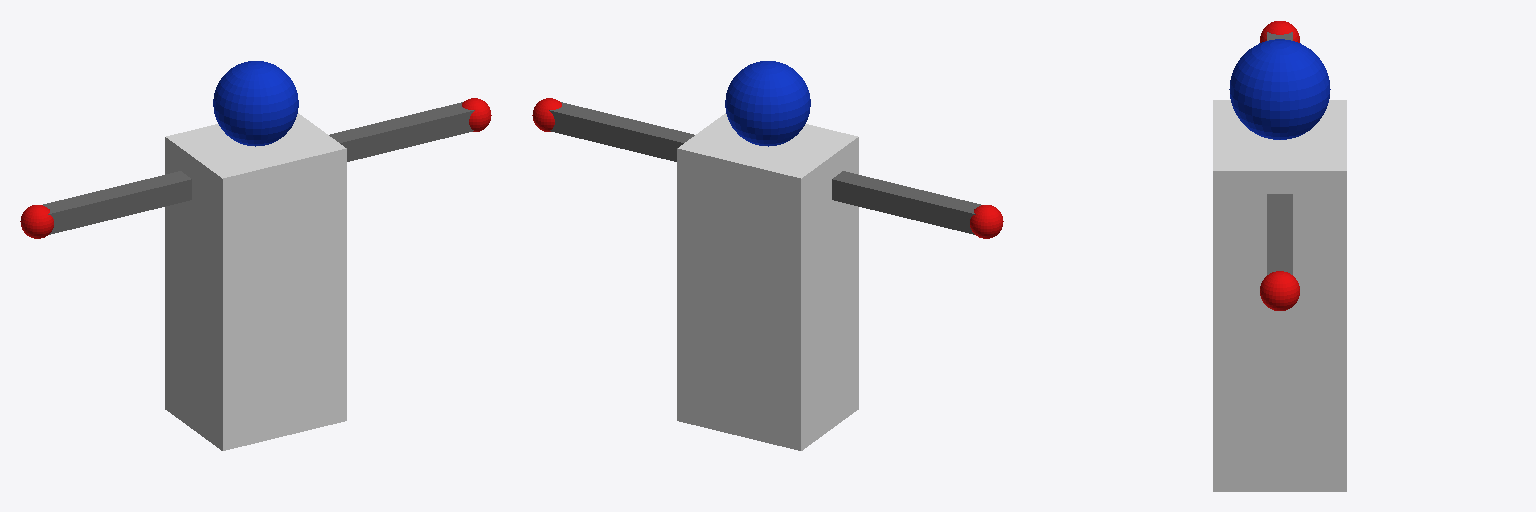
The robot description file, URDF, robot "testbot":
<?xml version="1.0" ?>
<!-- =================================================================================== -->
<!-- |    This document was autogenerated by xacro from install/testbot/share/testbot/urdf/testbot.urdf.xacro | -->
<!-- |    EDITING THIS FILE BY HAND IS NOT RECOMMENDED                                 | -->
<!-- =================================================================================== -->
<!--
  Tesla-bot style upper body.

  Kinematic chain (per the lesson):
      world -> head -> body -> shoulder -> upper_arm -> lower_arm -> hand

  world_to_head and head_to_body are fixed. Shoulders and elbows rotate
  about Z, so the arms swing in the XY plane like clock hands.
  At zero the hand is 0.3 + 0.3 = 0.6 m from the shoulder.
-->
<robot name="testbot">
  <material name="white">
    <color rgba="0.90 0.90 0.90 1.0"/>
  </material>
  <material name="grey">
    <color rgba="0.45 0.45 0.45 1.0"/>
  </material>
  <material name="blue">
    <color rgba="0.10 0.25 0.80 1.0"/>
  </material>
  <material name="red">
    <color rgba="0.90 0.10 0.10 1.0"/>
  </material>
  <!-- ============================ links ============================= -->
  <!-- Gazebo treats a root link named "world" as the fixed world frame -->
  <link name="world"/>
  <link name="head">
    <visual>
      <geometry>
        <sphere radius="0.15"/>
      </geometry>
      <origin rpy="0 0 0" xyz="0 0 0"/>
      <material name="blue"/>
    </visual>
    <collision>
      <geometry>
        <sphere radius="0.15"/>
      </geometry>
      <origin rpy="0 0 0" xyz="0 0 0"/>
    </collision>
    <inertial>
      <mass value="2.0"/>
      <origin rpy="0 0 0" xyz="0 0 0"/>
      <inertia ixx="0.018" ixy="0.0" ixz="0.0" iyy="0.018" iyz="0.0" izz="0.018"/>
    </inertial>
  </link>
  <!-- body frame at the top of the torso; the box reaches down to z = 0 -->
  <link name="body">
    <visual>
      <geometry>
        <box size="0.5 0.4 1.05"/>
      </geometry>
      <origin rpy="0 0 0" xyz="0 0 -0.525"/>
      <material name="white"/>
    </visual>
    <collision>
      <geometry>
        <box size="0.5 0.4 1.05"/>
      </geometry>
      <origin rpy="0 0 0" xyz="0 0 -0.525"/>
    </collision>
    <inertial>
      <mass value="10.0"/>
      <origin rpy="0 0 0" xyz="0 0 -0.525"/>
      <inertia ixx="1.0520833333333335" ixy="0.0" ixz="0.0" iyy="1.1270833333333334" iyz="0.0" izz="0.34166666666666673"/>
    </inertial>
  </link>
  <link name="upper_arm_right">
    <visual>
      <geometry>
        <box size="0.3 0.08 0.08"/>
      </geometry>
      <origin rpy="0 0 0" xyz="0.15 0 0"/>
      <material name="grey"/>
    </visual>
    <collision>
      <geometry>
        <box size="0.3 0.08 0.08"/>
      </geometry>
      <origin rpy="0 0 0" xyz="0.15 0 0"/>
    </collision>
    <inertial>
      <mass value="0.8"/>
      <origin rpy="0 0 0" xyz="0.15 0 0"/>
      <inertia ixx="0.0008533333333333334" ixy="0.0" ixz="0.0" iyy="0.006426666666666667" iyz="0.0" izz="0.006426666666666667"/>
    </inertial>
  </link>
  <link name="lower_arm_right">
    <visual>
      <geometry>
        <box size="0.3 0.08 0.08"/>
      </geometry>
      <origin rpy="0 0 0" xyz="0.15 0 0"/>
      <material name="grey"/>
    </visual>
    <collision>
      <geometry>
        <box size="0.3 0.08 0.08"/>
      </geometry>
      <origin rpy="0 0 0" xyz="0.15 0 0"/>
    </collision>
    <inertial>
      <mass value="0.5"/>
      <origin rpy="0 0 0" xyz="0.15 0 0"/>
      <inertia ixx="0.0005333333333333334" ixy="0.0" ixz="0.0" iyy="0.004016666666666667" iyz="0.0" izz="0.004016666666666667"/>
    </inertial>
  </link>
  <link name="hand_right">
    <visual>
      <geometry>
        <sphere radius="0.06"/>
      </geometry>
      <origin rpy="0 0 0" xyz="0 0 0"/>
      <material name="red"/>
    </visual>
    <collision>
      <geometry>
        <sphere radius="0.06"/>
      </geometry>
      <origin rpy="0 0 0" xyz="0 0 0"/>
    </collision>
    <inertial>
      <mass value="0.2"/>
      <origin rpy="0 0 0" xyz="0 0 0"/>
      <inertia ixx="0.00028799999999999995" ixy="0.0" ixz="0.0" iyy="0.00028799999999999995" iyz="0.0" izz="0.00028799999999999995"/>
    </inertial>
  </link>
  <!-- shoulder: revolute about Z -->
  <joint name="body_to_upper_arm_right" type="revolute">
    <parent link="body"/>
    <child link="upper_arm_right"/>
    <origin rpy="0 0 0" xyz="0.28 0 -0.1"/>
    <axis xyz="0 0 1"/>
    <limit effort="30.0" lower="-1.5708" upper="1.5708" velocity="2.0"/>
    <dynamics damping="0.5" friction="0.05"/>
  </joint>
  <!-- elbow: the joint the trajectory controller drives -->
  <joint name="upper_arm_to_lower_arm_right" type="revolute">
    <parent link="upper_arm_right"/>
    <child link="lower_arm_right"/>
    <origin rpy="0 0 0" xyz="0.3 0 0"/>
    <axis xyz="0 0 1"/>
    <limit effort="30.0" lower="-1.5708" upper="1.5708" velocity="2.0"/>
    <dynamics damping="0.1" friction="0.05"/>
  </joint>
  <joint name="lower_arm_to_hand_right" type="fixed">
    <parent link="lower_arm_right"/>
    <child link="hand_right"/>
    <origin rpy="0 0 0" xyz="0.3 0 0"/>
  </joint>
  <link name="upper_arm_left">
    <visual>
      <geometry>
        <box size="0.3 0.08 0.08"/>
      </geometry>
      <origin rpy="0 0 0" xyz="-0.15 0 0"/>
      <material name="grey"/>
    </visual>
    <collision>
      <geometry>
        <box size="0.3 0.08 0.08"/>
      </geometry>
      <origin rpy="0 0 0" xyz="-0.15 0 0"/>
    </collision>
    <inertial>
      <mass value="0.8"/>
      <origin rpy="0 0 0" xyz="-0.15 0 0"/>
      <inertia ixx="0.0008533333333333334" ixy="0.0" ixz="0.0" iyy="0.006426666666666667" iyz="0.0" izz="0.006426666666666667"/>
    </inertial>
  </link>
  <link name="lower_arm_left">
    <visual>
      <geometry>
        <box size="0.3 0.08 0.08"/>
      </geometry>
      <origin rpy="0 0 0" xyz="-0.15 0 0"/>
      <material name="grey"/>
    </visual>
    <collision>
      <geometry>
        <box size="0.3 0.08 0.08"/>
      </geometry>
      <origin rpy="0 0 0" xyz="-0.15 0 0"/>
    </collision>
    <inertial>
      <mass value="0.5"/>
      <origin rpy="0 0 0" xyz="-0.15 0 0"/>
      <inertia ixx="0.0005333333333333334" ixy="0.0" ixz="0.0" iyy="0.004016666666666667" iyz="0.0" izz="0.004016666666666667"/>
    </inertial>
  </link>
  <link name="hand_left">
    <visual>
      <geometry>
        <sphere radius="0.06"/>
      </geometry>
      <origin rpy="0 0 0" xyz="0 0 0"/>
      <material name="red"/>
    </visual>
    <collision>
      <geometry>
        <sphere radius="0.06"/>
      </geometry>
      <origin rpy="0 0 0" xyz="0 0 0"/>
    </collision>
    <inertial>
      <mass value="0.2"/>
      <origin rpy="0 0 0" xyz="0 0 0"/>
      <inertia ixx="0.00028799999999999995" ixy="0.0" ixz="0.0" iyy="0.00028799999999999995" iyz="0.0" izz="0.00028799999999999995"/>
    </inertial>
  </link>
  <!-- shoulder: revolute about Z -->
  <joint name="body_to_upper_arm_left" type="revolute">
    <parent link="body"/>
    <child link="upper_arm_left"/>
    <origin rpy="0 0 0" xyz="-0.28 0 -0.1"/>
    <axis xyz="0 0 1"/>
    <limit effort="30.0" lower="-1.5708" upper="1.5708" velocity="2.0"/>
    <dynamics damping="0.5" friction="0.05"/>
  </joint>
  <!-- elbow: the joint the trajectory controller drives -->
  <joint name="upper_arm_to_lower_arm_left" type="revolute">
    <parent link="upper_arm_left"/>
    <child link="lower_arm_left"/>
    <origin rpy="0 0 0" xyz="-0.3 0 0"/>
    <axis xyz="0 0 1"/>
    <limit effort="30.0" lower="-1.5708" upper="1.5708" velocity="2.0"/>
    <dynamics damping="0.1" friction="0.05"/>
  </joint>
  <joint name="lower_arm_to_hand_left" type="fixed">
    <parent link="lower_arm_left"/>
    <child link="hand_left"/>
    <origin rpy="0 0 0" xyz="-0.3 0 0"/>
  </joint>
  <!-- =========================== joints ============================= -->
  <joint name="world_to_head" type="fixed">
    <parent link="world"/>
    <child link="head"/>
    <origin rpy="0 0 0" xyz="0 0 1.2"/>
  </joint>
  <joint name="head_to_body" type="fixed">
    <parent link="head"/>
    <child link="body"/>
    <origin rpy="0 0 0" xyz="0 0 -0.15"/>
  </joint>
  <!-- ====================== ros2_control ============================ -->
  <ros2_control name="GazeboSimSystem" type="system">
    <hardware>
      <plugin>gz_ros2_control/GazeboSimSystem</plugin>
    </hardware>
    <!-- elbows: position command + full state feedback -->
    <joint name="upper_arm_to_lower_arm_right">
      <command_interface name="position"/>
      <state_interface name="position"/>
      <state_interface name="velocity"/>
      <state_interface name="effort"/>
    </joint>
    <joint name="upper_arm_to_lower_arm_left">
      <command_interface name="position"/>
      <state_interface name="position"/>
      <state_interface name="velocity"/>
      <state_interface name="effort"/>
    </joint>
    <!-- passive shoulders: state only, so joint_state_broadcaster
         reports them and robot_state_publisher can build their TF -->
    <joint name="body_to_upper_arm_right">
      <state_interface name="position"/>
      <state_interface name="velocity"/>
      <state_interface name="effort"/>
    </joint>
    <joint name="body_to_upper_arm_left">
      <state_interface name="position"/>
      <state_interface name="velocity"/>
      <state_interface name="effort"/>
    </joint>
  </ros2_control>
  <!-- ====================== Gazebo plugin =========================== -->
  <gazebo>
    <plugin filename="gz_ros2_control-system" name="gz_ros2_control::GazeboSimROS2ControlPlugin">
      <parameters>/home/kunal/ros2_ws1/install/testbot/share/testbot/config/controllers.yaml</parameters>
    </plugin>
  </gazebo>
</robot>

--- Render facts (derived) ---
Views: 3 orthographic renders of the robot side by side, from view 1: azimuth 30°, elevation 25°; view 2: azimuth 150°, elevation 25°; view 3: azimuth 270°, elevation 25°.
Model testbot with 9 links and 8 joints (4 revolute, 4 fixed), rooted at world, posed all joints at 0.
Visible links, largest first — view 1: body, head, upper_arm_left, lower_arm_left, lower_arm_right, upper_arm_right, hand_left, hand_right; view 2: body, head, upper_arm_left, lower_arm_left, lower_arm_right, upper_arm_right, hand_left, hand_right; view 3: body, head, hand_right, upper_arm_right, lower_arm_right.
Boxes of the visible links, x1,y1,x2,y2 form: body: (165, 113, 346, 450); head: (213, 61, 298, 146); upper_arm_left: (107, 171, 191, 217); lower_arm_left: (43, 189, 117, 234); lower_arm_right: (395, 102, 474, 147); upper_arm_right: (329, 119, 405, 161); hand_left: (20, 205, 53, 238); hand_right: (462, 98, 491, 131); body: (677, 113, 858, 450); head: (725, 61, 810, 146); upper_arm_left: (832, 171, 916, 217); lower_arm_left: (906, 189, 980, 234); lower_arm_right: (549, 102, 628, 147); upper_arm_right: (618, 119, 694, 161); hand_left: (970, 205, 1003, 238); hand_right: (532, 98, 561, 131); body: (1213, 100, 1346, 491); head: (1229, 39, 1330, 139); hand_right: (1260, 271, 1299, 310); upper_arm_right: (1267, 194, 1292, 235); lower_arm_right: (1267, 236, 1292, 274).
Bounding box of the posed robot: 1.88 × 0.4 × 1.35 m (x, y, z).
Geometry: primitives only (box / cylinder / sphere), no mesh files.
